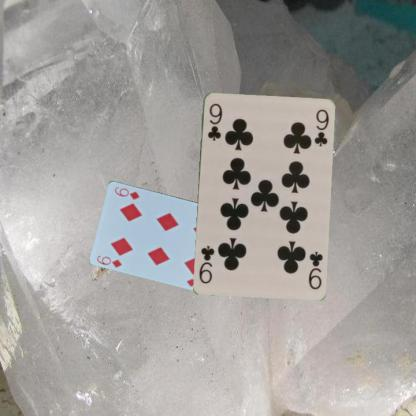6d: (94, 252, 123, 269)
9c: (204, 101, 223, 142), (306, 248, 324, 290)
